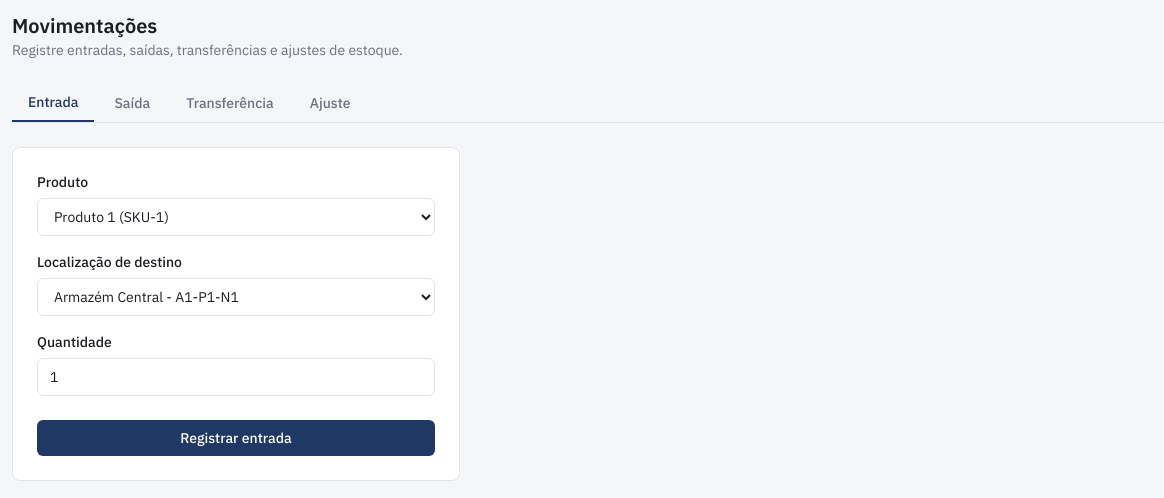
MovimentacoesPage › aba Saída mostra só 'Localização de origem'
Expected: the dropdown labelled "Localização de destino" is shown, [37,278,435,316]
Click the button "Saída": (132, 103) [98,84,166,122]
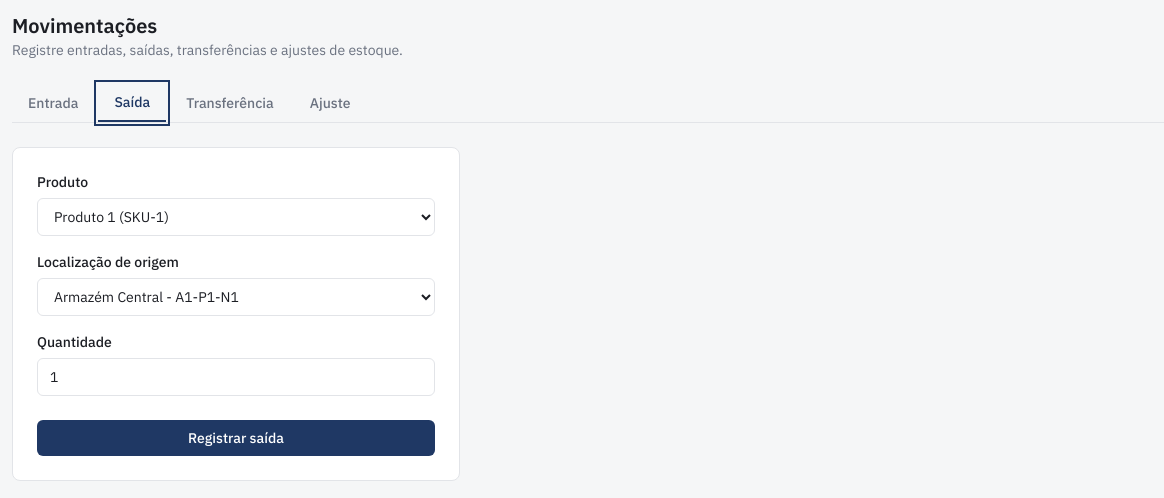
Expected: the dropdown labelled "Localização de origem" is shown, [37,278,435,316]
Now the label labelled "Localização de destino" is gone
